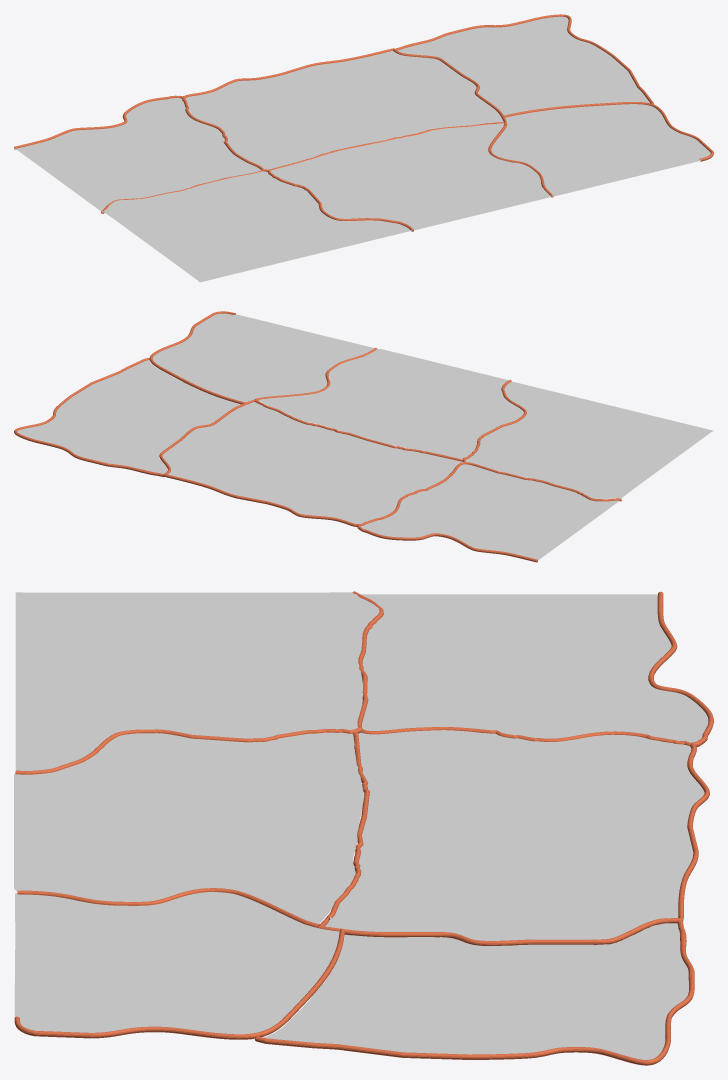
File: AllBorders.fbx
3 renders of one model, top to bottom at view 1: azimuth 30°, elevation 25°; view 2: azimuth 150°, elevation 25°; view 3: azimuth 270°, elevation 25°, orthographic. The views are drawn at different scales.
Parts seen in each view (by area): view 1: path1.003, path1.001, path1, path1.002, path1.005, path1.004, path1.009, path1.008, path1.010, path1.006, path1.007; view 2: path1.003, path1.001, path1, path1.002, path1.005, path1.004, path1.009, path1.008, path1.010, path1.006, path1.007; view 3: path1.003, path1.001, path1, path1.002, path1.005, path1.004, path1.009, path1.010, path1.006, path1.008, path1.007.
Part boxes in pixels (bbox=[...]): path1.003: bbox=[185, 50, 503, 169]; path1.001: bbox=[270, 123, 550, 230]; path1: bbox=[104, 171, 412, 282]; path1.002: bbox=[15, 98, 260, 212]; path1.005: bbox=[397, 16, 649, 115]; path1.004: bbox=[491, 104, 710, 196]; path1.009: bbox=[183, 48, 506, 170]; path1.008: bbox=[14, 95, 263, 213]; path1.010: bbox=[488, 102, 713, 197]; path1.006: bbox=[395, 14, 653, 104]; path1.007: bbox=[262, 169, 413, 231]; path1.003: bbox=[162, 401, 462, 524]; path1.001: bbox=[258, 349, 523, 459]; path1: bbox=[465, 381, 713, 499]; path1.002: bbox=[360, 464, 619, 560]; path1.005: bbox=[17, 360, 239, 473]; path1.004: bbox=[152, 313, 374, 402]; path1.009: bbox=[159, 399, 462, 526]; path1.008: bbox=[357, 462, 621, 562]; path1.010: bbox=[149, 311, 377, 404]; path1.006: bbox=[14, 357, 164, 476]; path1.007: bbox=[462, 379, 526, 462]; path1.003: bbox=[325, 730, 704, 940]; path1.001: bbox=[14, 732, 364, 923]; path1: bbox=[15, 592, 379, 770]; path1.002: bbox=[360, 594, 708, 742]; path1.005: bbox=[263, 923, 688, 1059]; path1.004: bbox=[14, 892, 339, 1034]; path1.009: bbox=[318, 732, 709, 945]; path1.010: bbox=[14, 888, 344, 1039]; path1.006: bbox=[254, 920, 694, 1065]; path1.008: bbox=[352, 591, 713, 746]; path1.007: bbox=[15, 727, 361, 774].
Bounding box in the file's own units: 40076 × 310 × 25226.
